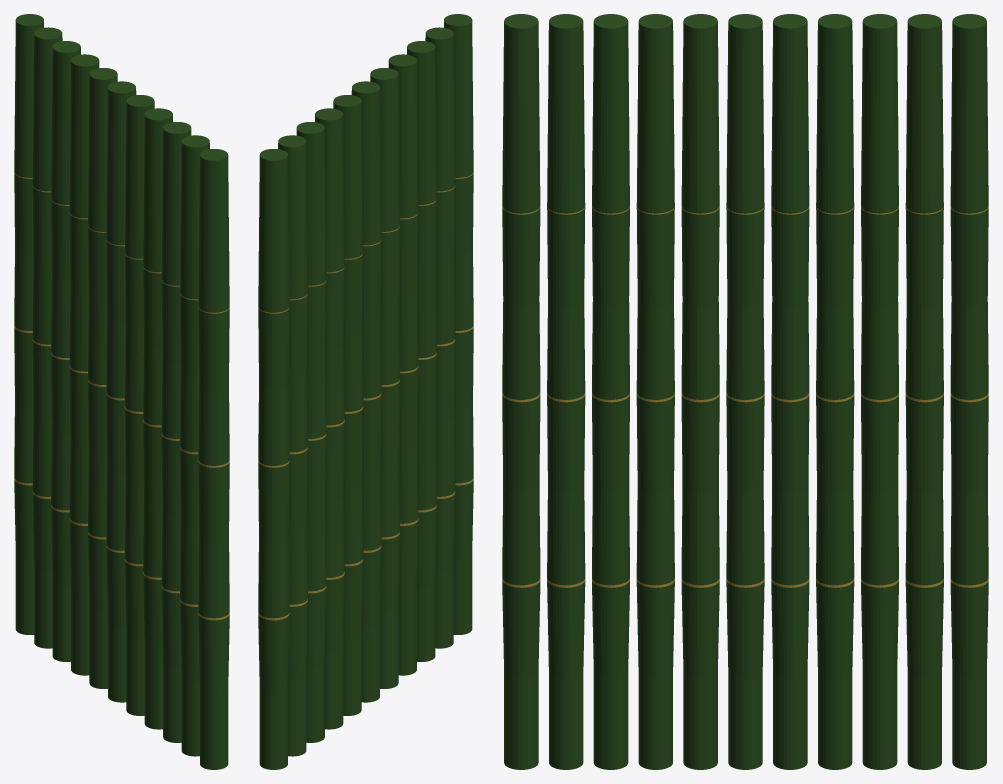
File: Grade_Floresta.fbx
The picture shows the model from 3 angles, left to right: view 1: azimuth 30°, elevation 25°; view 2: azimuth 150°, elevation 25°; view 3: azimuth 270°, elevation 25°; orthographic projection. The views are drawn at different scales.
Parts seen in each view (by area): view 1: Grade_Floresta; view 2: Grade_Floresta; view 3: Grade_Floresta.
Boxes of the visible parts, x1,y1,x2,y2 form: Grade_Floresta: (14, 14, 229, 769); Grade_Floresta: (258, 14, 473, 769); Grade_Floresta: (502, 14, 988, 769).
Bounding box in the file's own units: 111 × 2372 × 1411.
